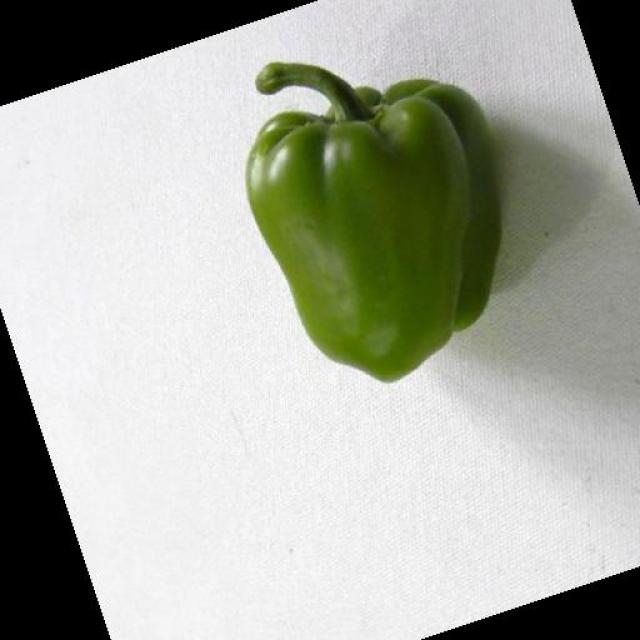Fresh_Capsicum: (195, 91, 514, 408)
